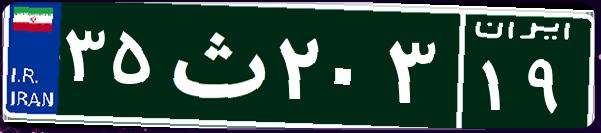0: (330, 28, 385, 110)
1: (475, 38, 525, 113)
2: (273, 28, 330, 110)
3: (385, 28, 445, 110), (57, 26, 110, 107)
5: (110, 28, 158, 105)
9: (525, 38, 570, 115)
ث: (158, 15, 273, 115)
